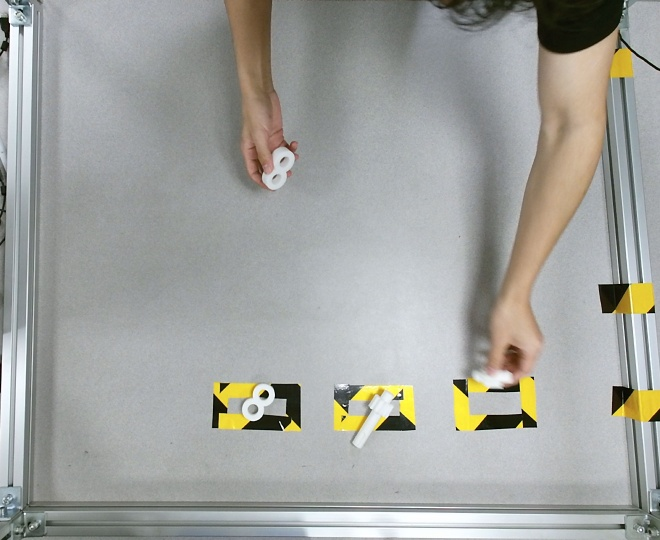stage_1: (262, 146, 294, 189)
